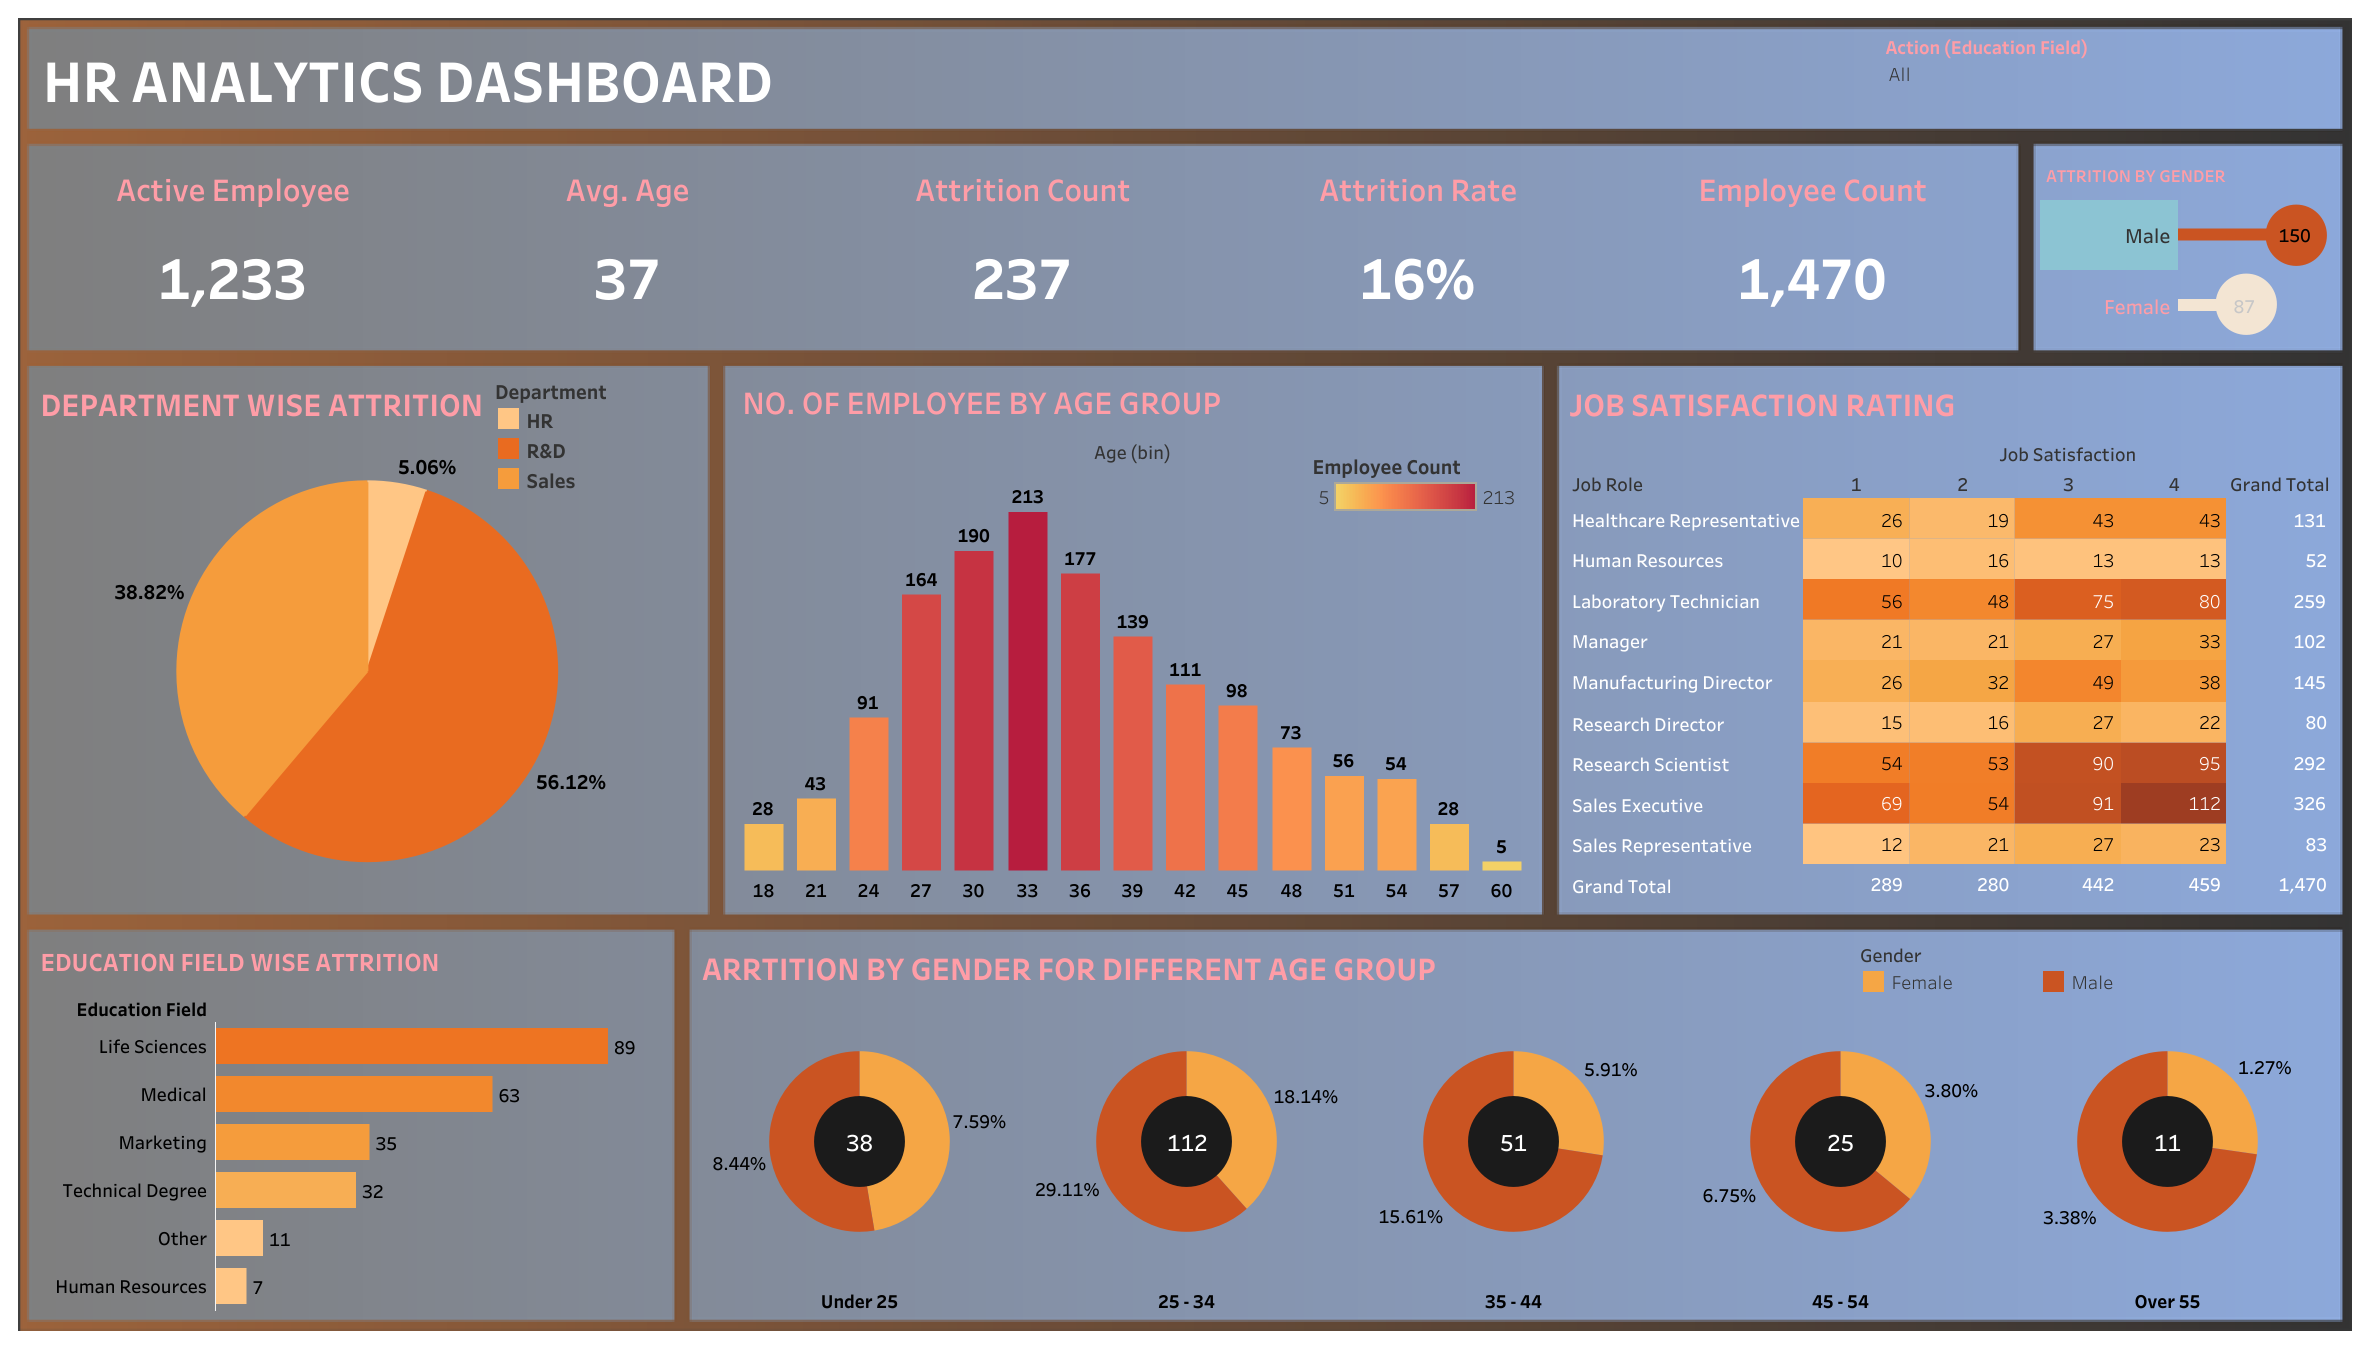

This screenshot's page, from the dashboard's own definition file:
{"tool":"tableau","page":{"name":"HR ANALYTICS DASHBOARD","canvas":[1580,900],"ordinal":0},"visuals":[{"type":"image","param":"Image/HR background.pptx (6).png","box":[8,8,1564,884]},{"type":"filter","title":"NO. OF EMPLOYEE BY AGE GROUP","param":"[federated.0uwbtbb1hwh5r915e3e3u1kqohmb].[Action (Education Field)]","box":[1257,21,298,62]},{"type":"text","box":[26,24,1015,56]},{"type":"worksheet","title":"KPIS","mark":"Automatic","box":[24,100,1316,127]},{"type":"worksheet","title":"ATTRITION BY GENDER","mark":"Bar","rows":["Gender"],"cols":["Calculation_156500132145397760","Calculation_156500132145397760"],"box":[1360,103,195,123]},{"type":"worksheet","title":"NO. OF EMPLOYEE BY AGE GROUP","mark":"Automatic","rows":["Employee Count"],"cols":["Age (bin)"],"box":[491,248,528,354]},{"type":"worksheet","title":"DEPARTMENT WISE ATTRITION","mark":"Pie","box":[23,249,443,354]},{"type":"legend","title":"DEPARTMENT WISE ATTRITION","param":"[federated.0uwbtbb1hwh5r915e3e3u1kqohmb].[none:Department:nk]","box":[329,249,140,121]},{"type":"worksheet","title":"JOB SATISFACTION RATING","mark":"Square","rows":["Job Role"],"cols":["Job Satisfaction"],"box":[1042,249,514,354]},{"type":"legend","title":"NO. OF EMPLOYEE BY AGE GROUP","param":"[federated.0uwbtbb1hwh5r915e3e3u1kqohmb].[sum:Employee Count:qk]","box":[875,297,140,100]},{"type":"worksheet","title":"EDUCATION FIELD WISE ATTRITION","mark":"Automatic","rows":["Education Field"],"cols":["Calculation_156500132145397760"],"box":[23,623,420,250]},{"type":"worksheet","title":"ARRTITION BY GENDER FOR DIFFERENT AGE GROUP","mark":"Pie","rows":["Calculation_156500132255764485","Calculation_156500132255764485"],"cols":["CF_age band"],"box":[464,625,1090,251]},{"type":"legend","title":"ARRTITION BY GENDER FOR DIFFERENT AGE GROUP","param":"[federated.0uwbtbb1hwh5r915e3e3u1kqohmb].[none:Gender:nk]","box":[1239,625,313,51]}]}

Visuals, with their boxes in screenshot pixels (x1, y1, x2, y2), scaled from the page's 1580x900 canvas onto the 2369x1349 screenshot:
image: 12, 12, 2357, 1337
"NO. OF EMPLOYEE BY AGE GROUP" filter: 1885, 31, 2332, 124
text: 39, 36, 1561, 120
"KPIS" worksheet: 36, 150, 2009, 340
"ATTRITION BY GENDER" worksheet (Bar marks): 2039, 154, 2332, 339
"NO. OF EMPLOYEE BY AGE GROUP" worksheet: 736, 372, 1528, 902
"DEPARTMENT WISE ATTRITION" worksheet (Pie marks): 34, 373, 699, 904
"DEPARTMENT WISE ATTRITION" legend: 493, 373, 703, 555
"JOB SATISFACTION RATING" worksheet (Square marks): 1562, 373, 2333, 904
"NO. OF EMPLOYEE BY AGE GROUP" legend: 1312, 445, 1522, 595
"EDUCATION FIELD WISE ATTRITION" worksheet: 34, 934, 664, 1309
"ARRTITION BY GENDER FOR DIFFERENT AGE GROUP" worksheet (Pie marks): 696, 937, 2330, 1313
"ARRTITION BY GENDER FOR DIFFERENT AGE GROUP" legend: 1858, 937, 2327, 1013
